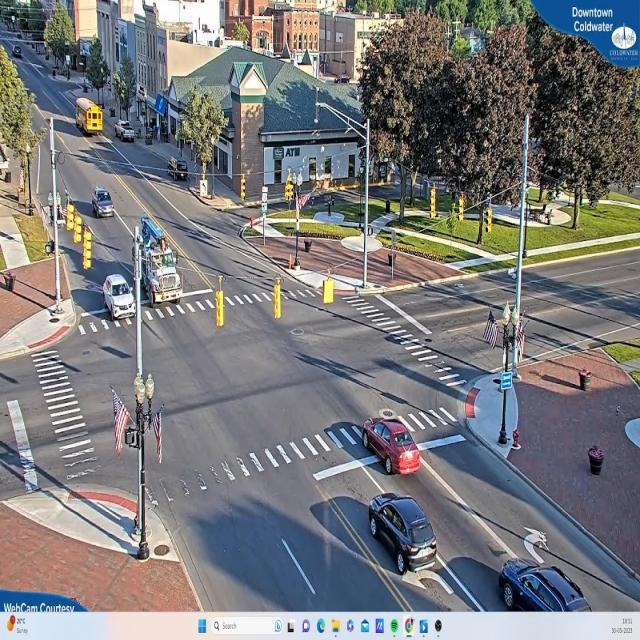bus: (75, 97, 105, 136)
car: (366, 495, 438, 575), (500, 560, 593, 612), (362, 417, 423, 475), (104, 274, 137, 317), (92, 190, 115, 220), (117, 121, 138, 142)
truck: (131, 221, 182, 310)
